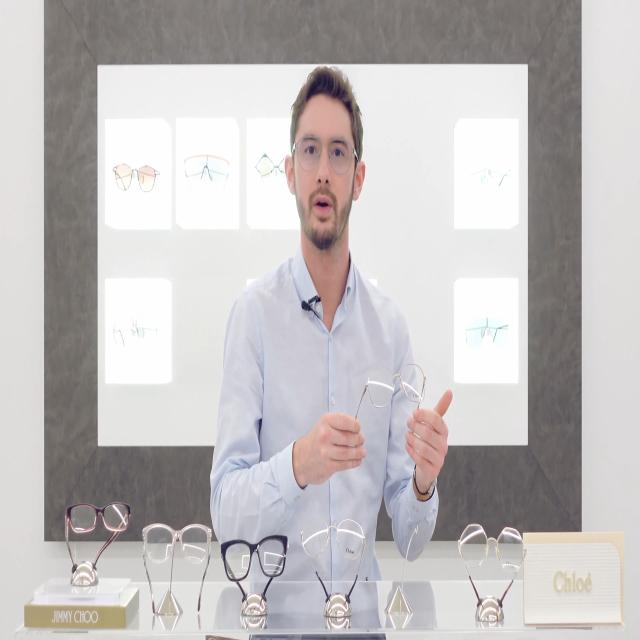dress: (210, 238, 439, 578)
glasses: (301, 508, 364, 563), (222, 530, 288, 582), (458, 524, 524, 574), (144, 520, 211, 567), (364, 362, 425, 411), (67, 500, 131, 540), (297, 133, 354, 175), (182, 154, 229, 187), (113, 162, 157, 192)
